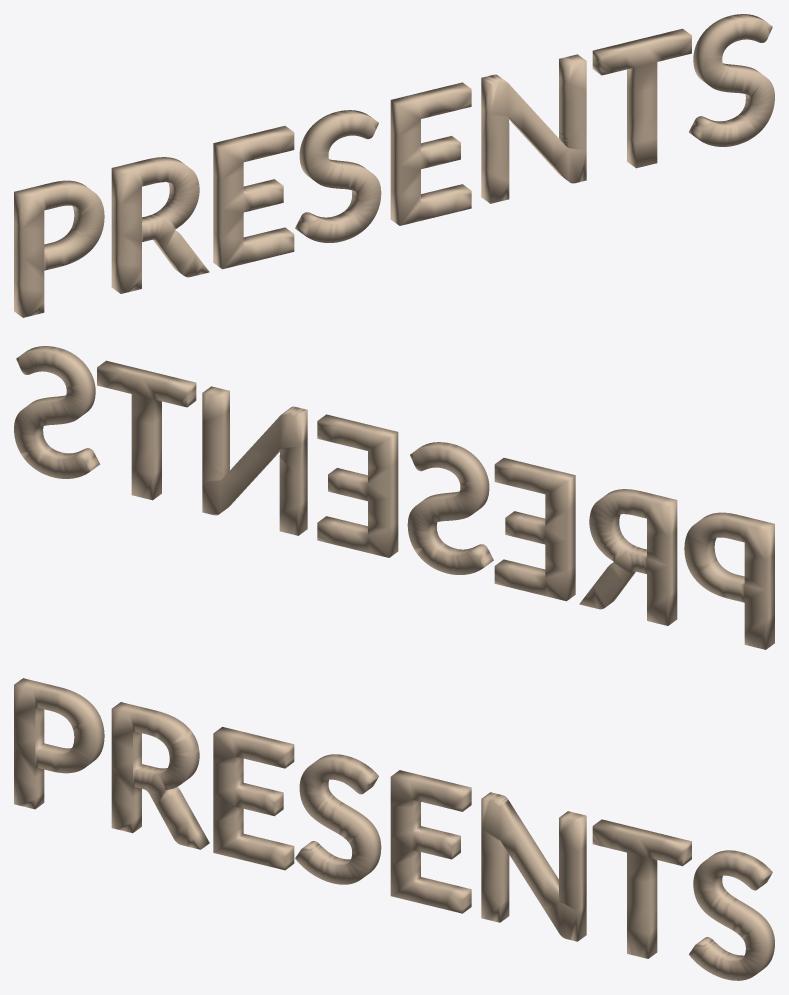
The model's file is presents.dae.
3 renders of one model, top to bottom at view 1: azimuth 30°, elevation 25°; view 2: azimuth 150°, elevation 25°; view 3: azimuth 330°, elevation 25°, orthographic.
Parts seen in each view (by area): view 1: text3-0; view 2: text3-0; view 3: text3-0.
Boxes of the visible parts, x1=… form: text3-0: x1=14, y1=14, x2=774, y2=317; text3-0: x1=14, y1=346, x2=774, y2=649; text3-0: x1=14, y1=678, x2=774, y2=980.
Bounding box in the file's own units: 9.52 × 1.48 × 0.2.
